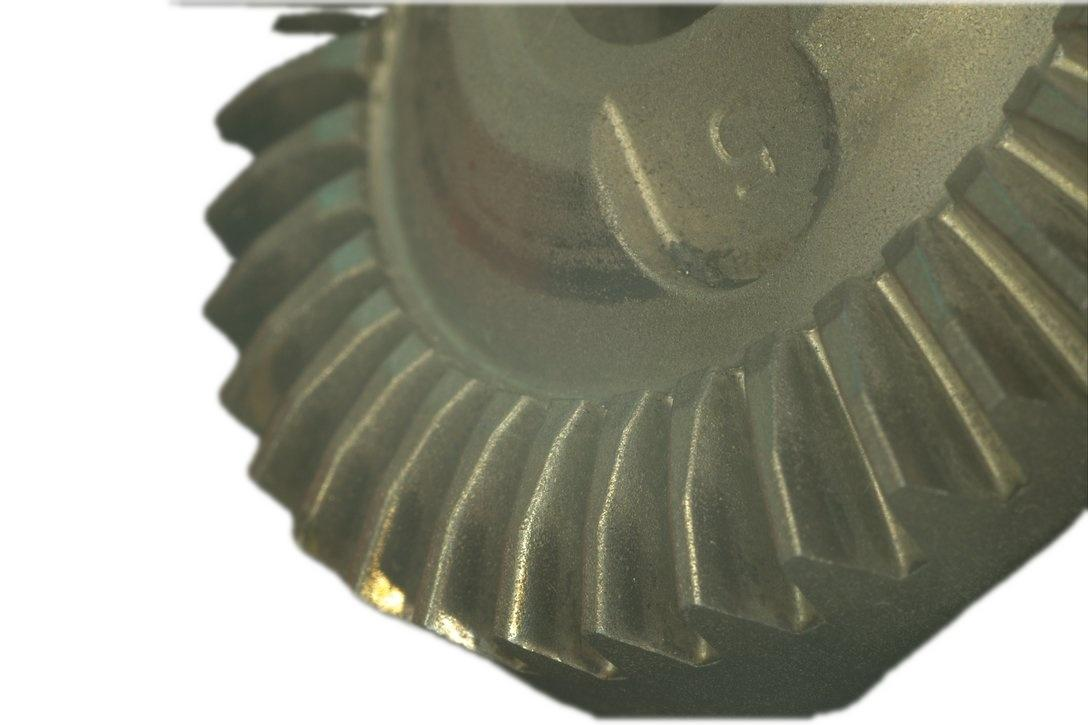defect: (428, 615, 484, 655), (507, 633, 567, 667), (363, 574, 407, 614)
